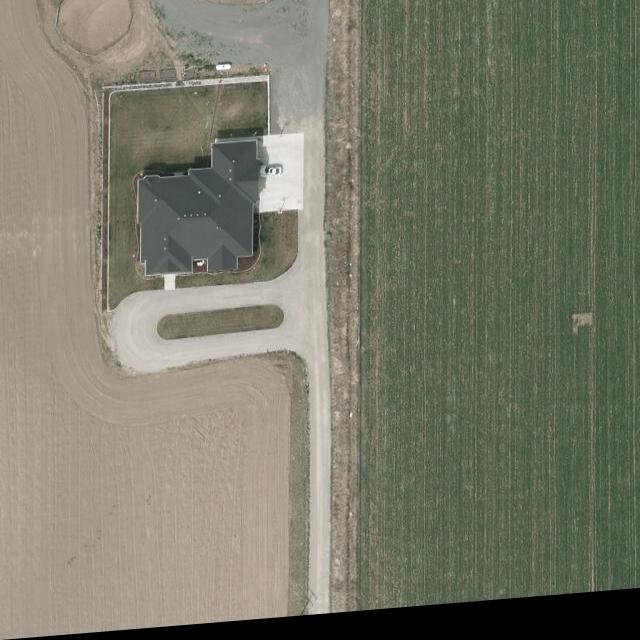vehicle: (259, 170, 283, 184)
